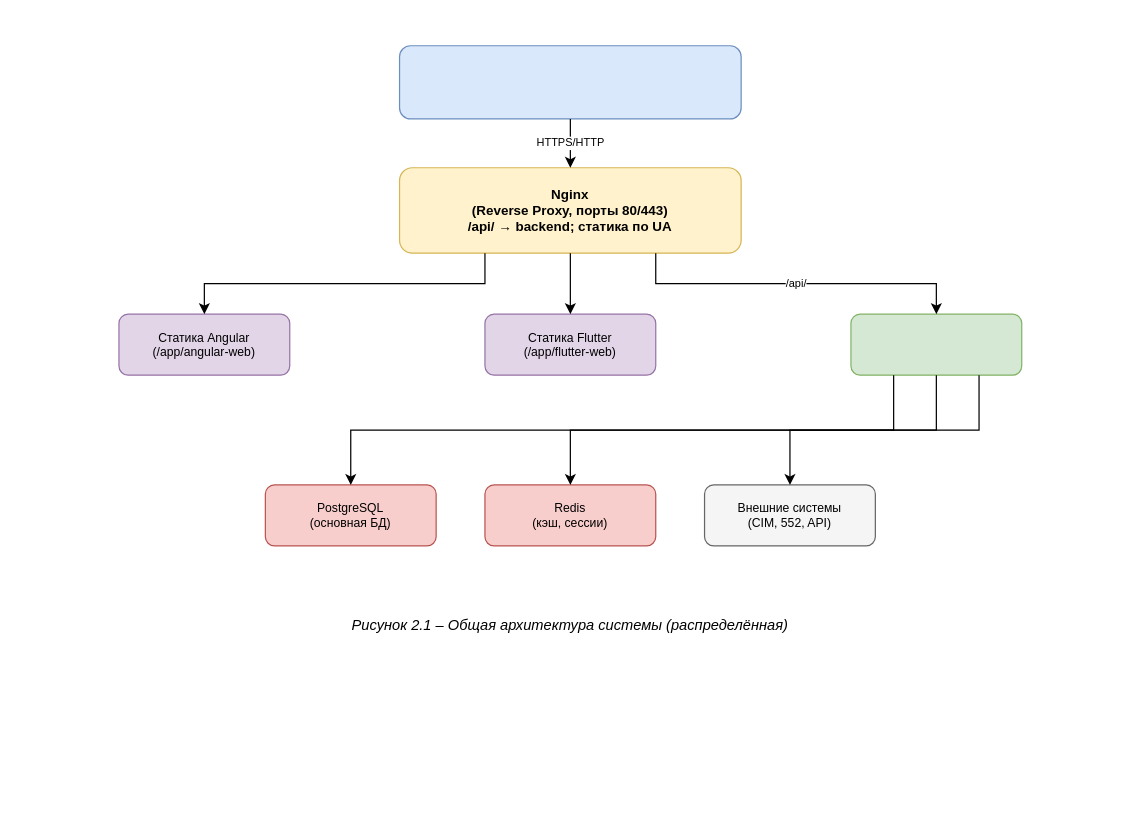
Some shapes in this 1139 by 834 pixel diagram are drawn without their labels. Each missing label, with the centre of its shape:
"Backend FastAPI :8000 REST API" belongs at (936,344).
"Клиенты Браузер (Angular SPA) / Flutter (Web, Android, iOS → тот же API)" belongs at (569,82).
